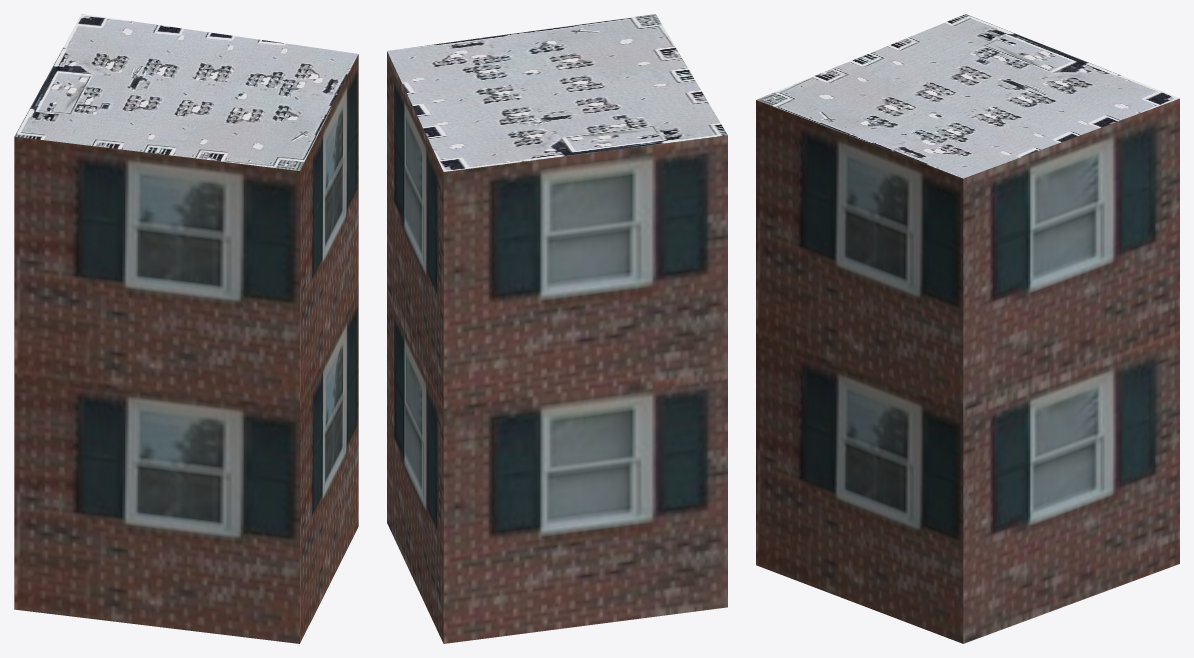
The model's file is ResTex__1266.fbx.
3 views of the same model, side by side, from view 1: azimuth 30°, elevation 25°; view 2: azimuth 150°, elevation 25°; view 3: azimuth 270°, elevation 25° (orthographic).
Visible parts, largest first — view 1: CityEngineMaterial_14_m, CityEngineMaterial_m; view 2: CityEngineMaterial_14_m, CityEngineMaterial_m; view 3: CityEngineMaterial_14_m, CityEngineMaterial_m.
Part boxes in pixels (x1,y1,x2,y2): CityEngineMaterial_14_m: [14, 54, 358, 643]; CityEngineMaterial_m: [14, 14, 358, 170]; CityEngineMaterial_14_m: [387, 51, 727, 643]; CityEngineMaterial_m: [387, 14, 727, 171]; CityEngineMaterial_14_m: [756, 98, 1179, 643]; CityEngineMaterial_m: [756, 14, 1179, 178].
Size of the model in its own units: 4.55 by 6 by 4.95.
2 materials, 2 textured.
